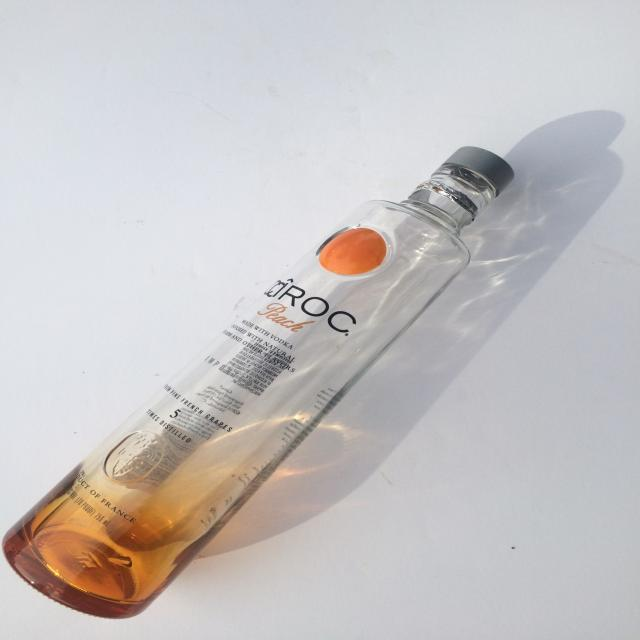glass: (1, 145, 516, 618)
